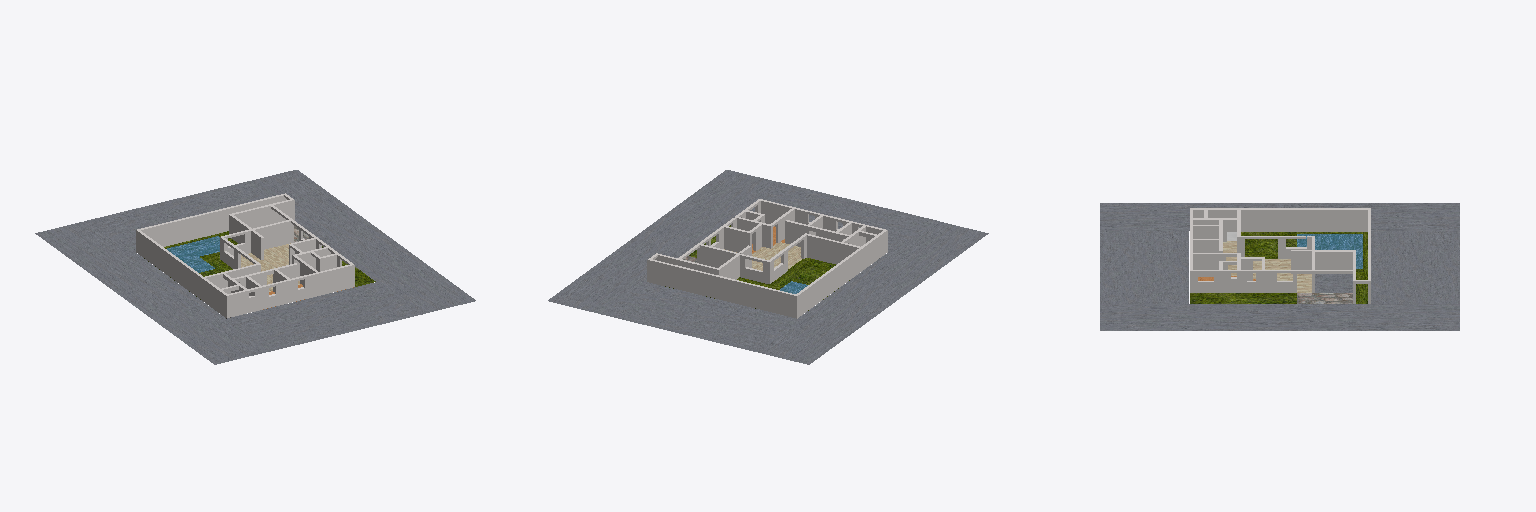
3 views of the same model, side by side, from view 1: azimuth 30°, elevation 25°; view 2: azimuth 150°, elevation 25°; view 3: azimuth 270°, elevation 25° (orthographic).
Visible parts, largest first — view 1: Cube_045; view 2: Cube_045; view 3: Cube_045.
Part boxes in pixels (x1,y1,x2,y2): Cube_045: (35,170,475,364); Cube_045: (548,170,988,364); Cube_045: (1100,203,1459,330).
Size of the model in its own units: 3677 by 303 by 4373.
10 materials, 9 textured.